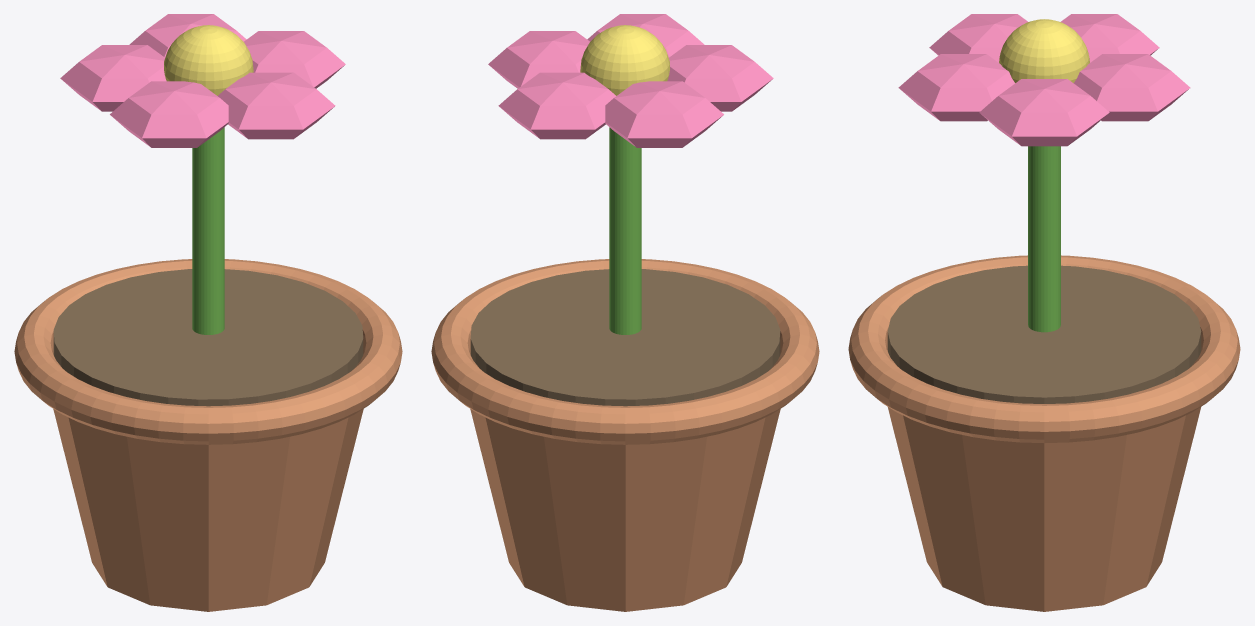
Rendered from flower_pot.glb.
The picture shows the model from 3 angles, left to right: view 1: azimuth 30°, elevation 25°; view 2: azimuth 150°, elevation 25°; view 3: azimuth 270°, elevation 25°; orthographic projection.
Parts seen in each view (by area): view 1: Pot, Cylinder, Torus, Cylinder.001, Sphere.003, Sphere.004, Sphere.002, Sphere.005, Sphere, Sphere.001; view 2: Pot, Cylinder, Torus, Cylinder.001, Sphere.002, Sphere.001, Sphere.003, Sphere.005, Sphere, Sphere.004; view 3: Pot, Cylinder, Torus, Sphere, Cylinder.001, Sphere.001, Sphere.004, Sphere.005, Sphere.002, Sphere.003.
Boxes of the visible parts, <box> form: Pot: <box>53,350,363,611</box>; Cylinder: <box>53,269,363,406</box>; Torus: <box>14,259,402,444</box>; Cylinder.001: <box>192,127,224,334</box>; Sphere.003: <box>110,81,228,147</box>; Sphere.004: <box>218,72,335,139</box>; Sphere.002: <box>60,45,166,111</box>; Sphere.005: <box>164,25,253,95</box>; Sphere: <box>244,31,345,88</box>; Sphere.001: <box>129,14,246,57</box>; Pot: <box>470,350,780,611</box>; Cylinder: <box>470,269,780,406</box>; Torus: <box>431,259,819,444</box>; Cylinder.001: <box>609,127,641,334</box>; Sphere.002: <box>605,81,723,147</box>; Sphere.001: <box>498,72,615,139</box>; Sphere.003: <box>667,45,773,111</box>; Sphere.005: <box>580,25,669,95</box>; Sphere: <box>488,31,589,88</box>; Sphere.004: <box>587,14,704,57</box>; Pot: <box>888,407,1200,611</box>; Cylinder: <box>887,265,1201,403</box>; Torus: <box>848,255,1240,443</box>; Sphere: <box>979,79,1109,146</box>; Cylinder.001: <box>1028,146,1060,332</box>; Sphere.001: <box>1073,54,1190,121</box>; Sphere.004: <box>898,54,1015,121</box>; Sphere.005: <box>999,19,1089,82</box>; Sphere.002: <box>1061,14,1159,62</box>; Sphere.003: <box>929,14,1027,62</box>.
Size of the model in its own units: 0.6 by 0.91 by 0.6.
